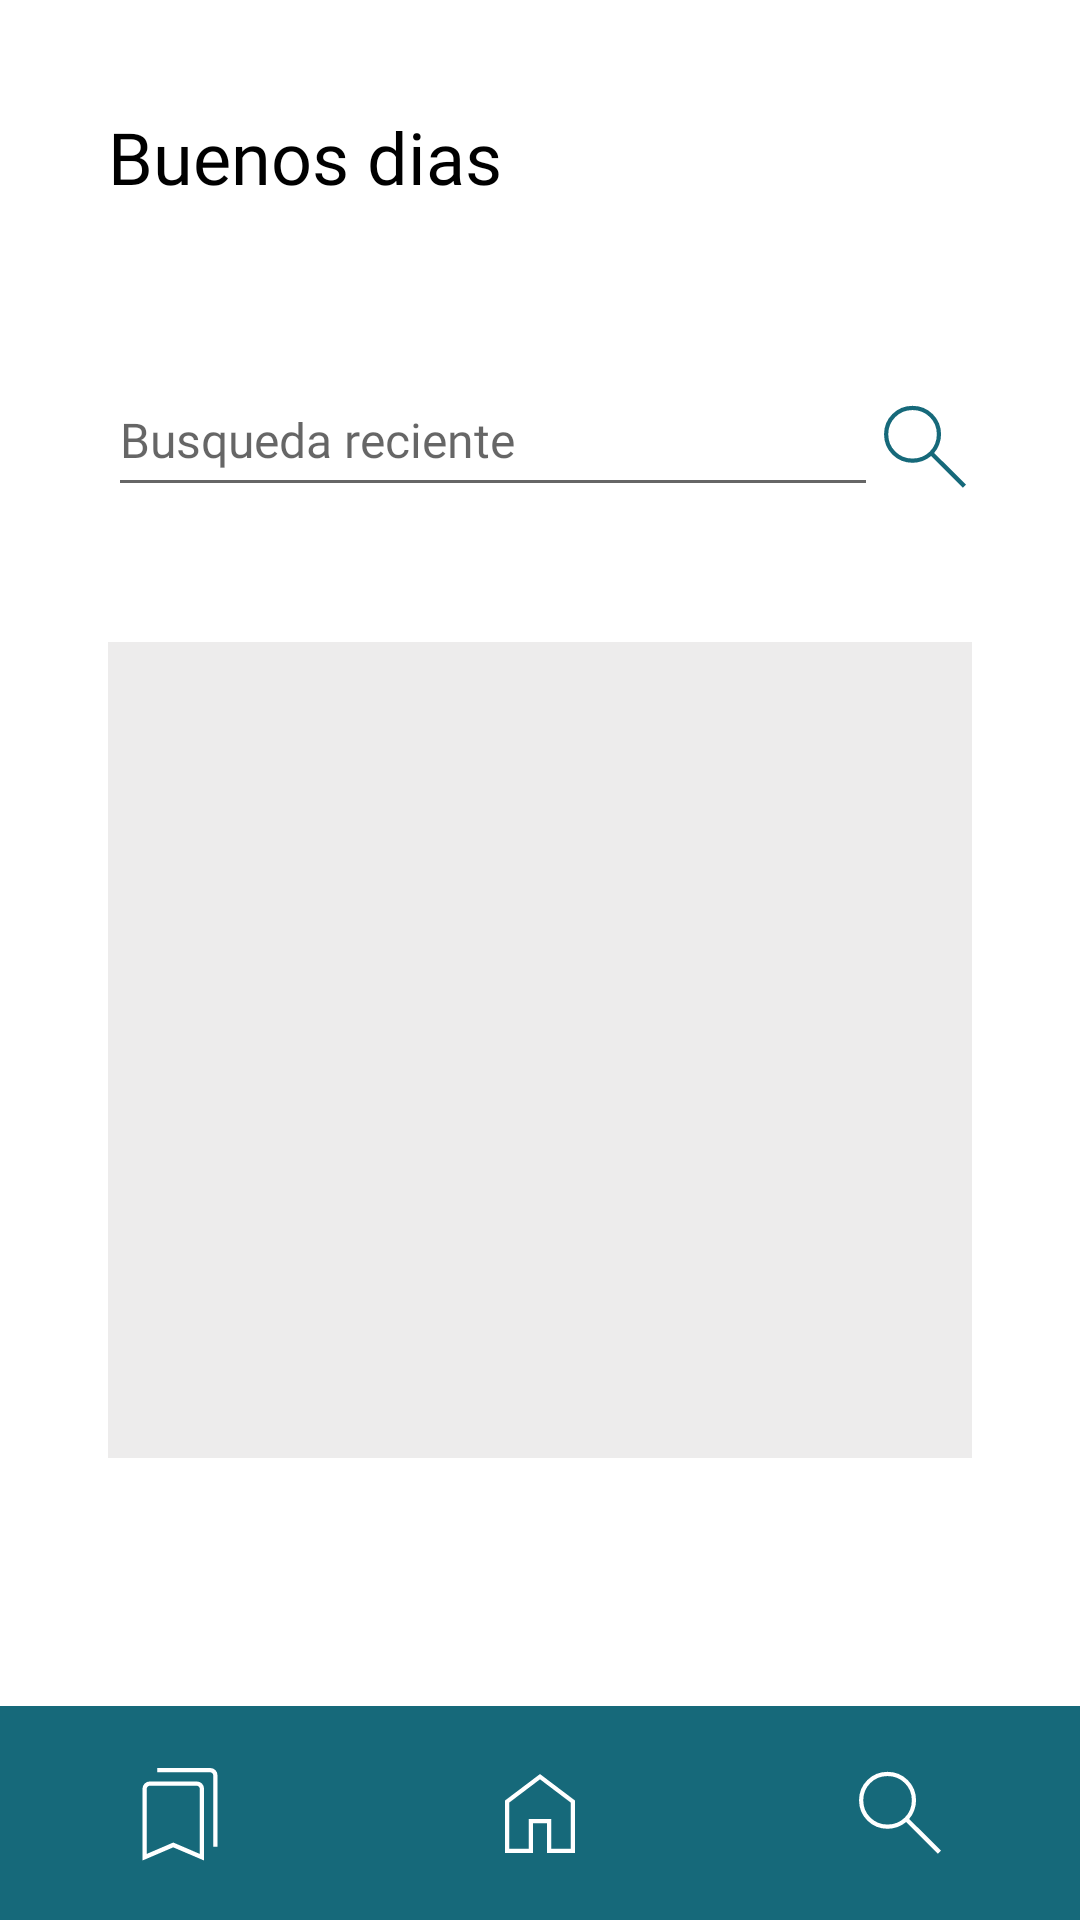

Icons on this 1080 x 1920 Android screen, each with its box as box=[x1, y1, x2, y2]:
bookmarks: box=[142, 1768, 218, 1861]
home: box=[505, 1774, 575, 1853]
search: box=[884, 405, 966, 488], box=[859, 1771, 941, 1854]
